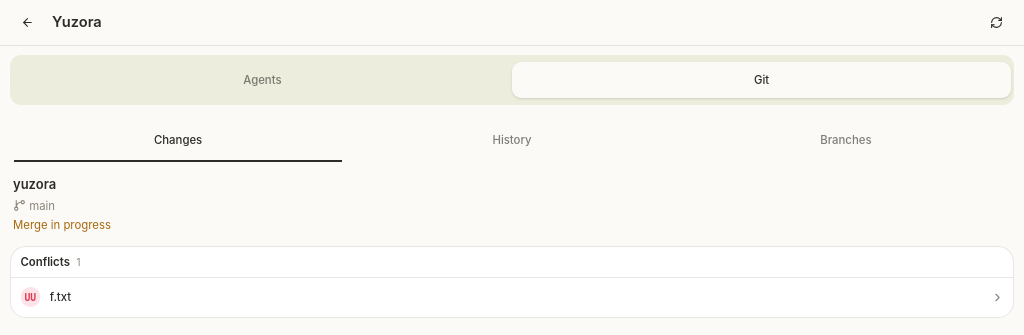
Scenario: does not claim a stale Conflicted row is still unmerged once the desktop staged the file
Click the text "f.txt": coordinates (60, 297) [50,290,71,304]
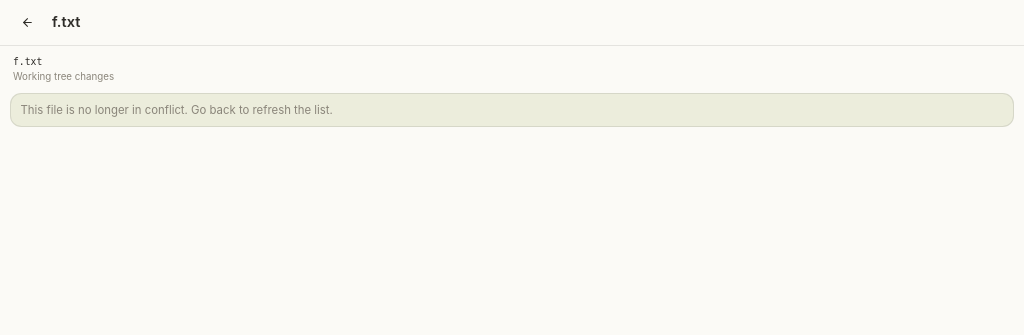
Expected: the text "This file is no longer in conflict. Go back to refresh the list." is shown, [10,93,1014,127]
